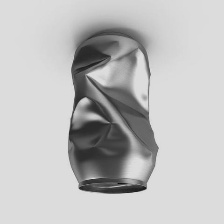can: (64, 26, 163, 196)
